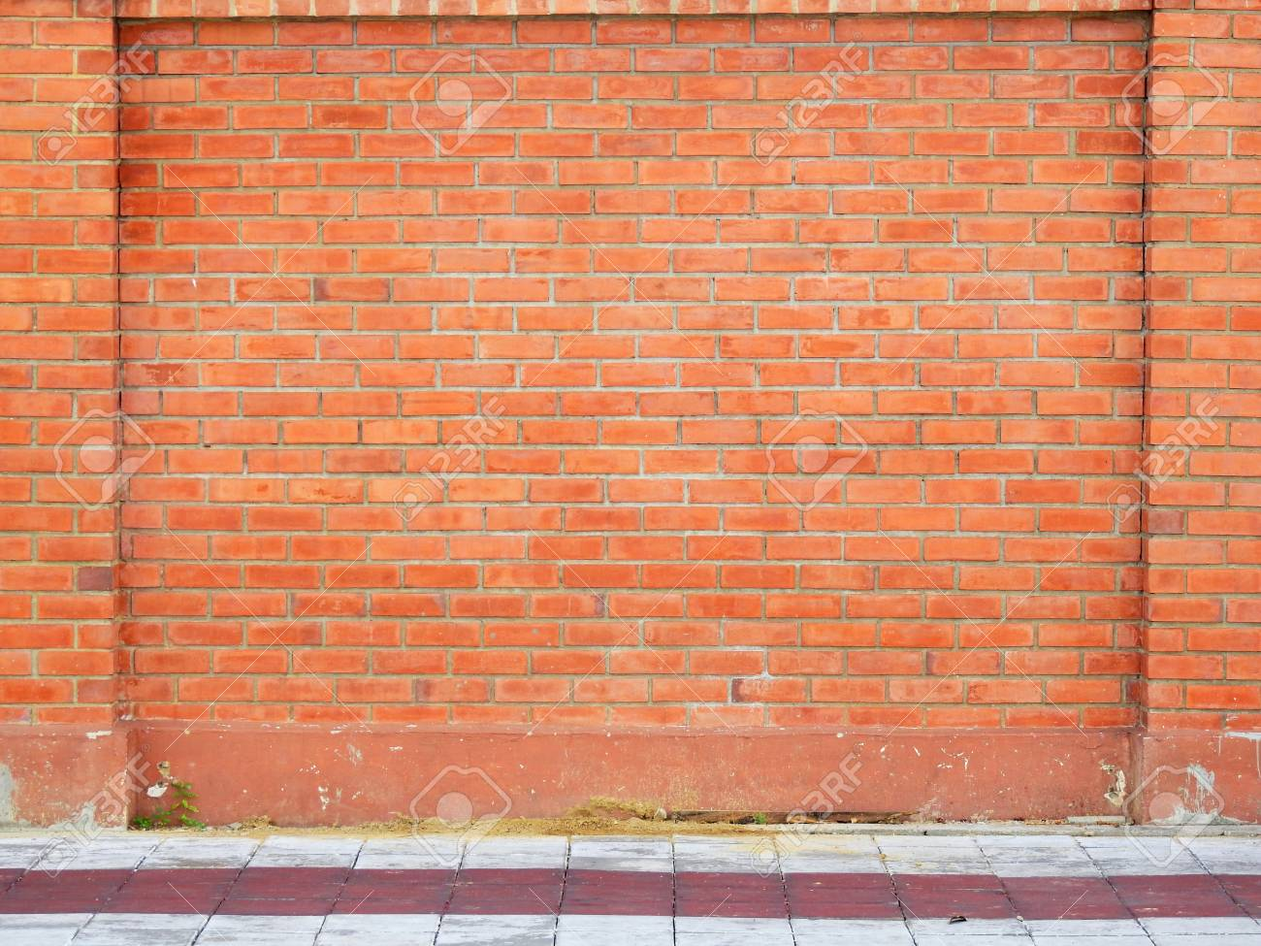Wall: (14, 15, 1240, 731)
